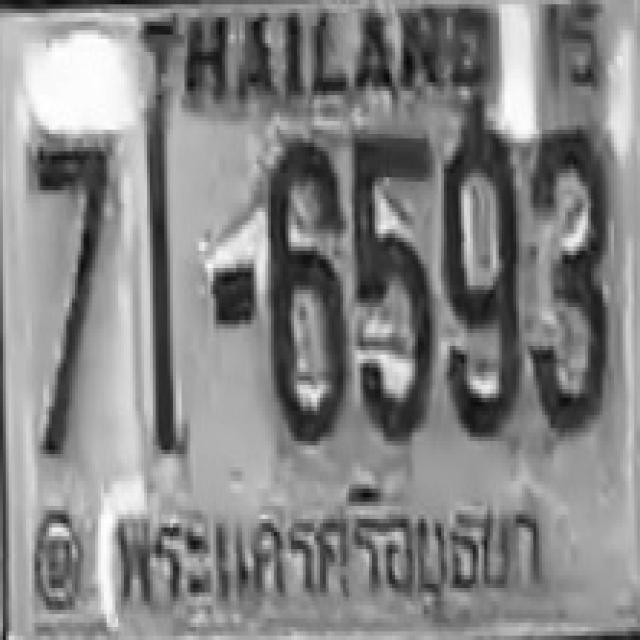0: (441, 117, 519, 428)
3: (528, 121, 611, 428)
5: (350, 130, 431, 436)
6: (264, 136, 347, 439)
7: (29, 128, 115, 448), (29, 125, 115, 364)
9: (441, 117, 519, 432)
Ayutthaya: (100, 481, 560, 622)
